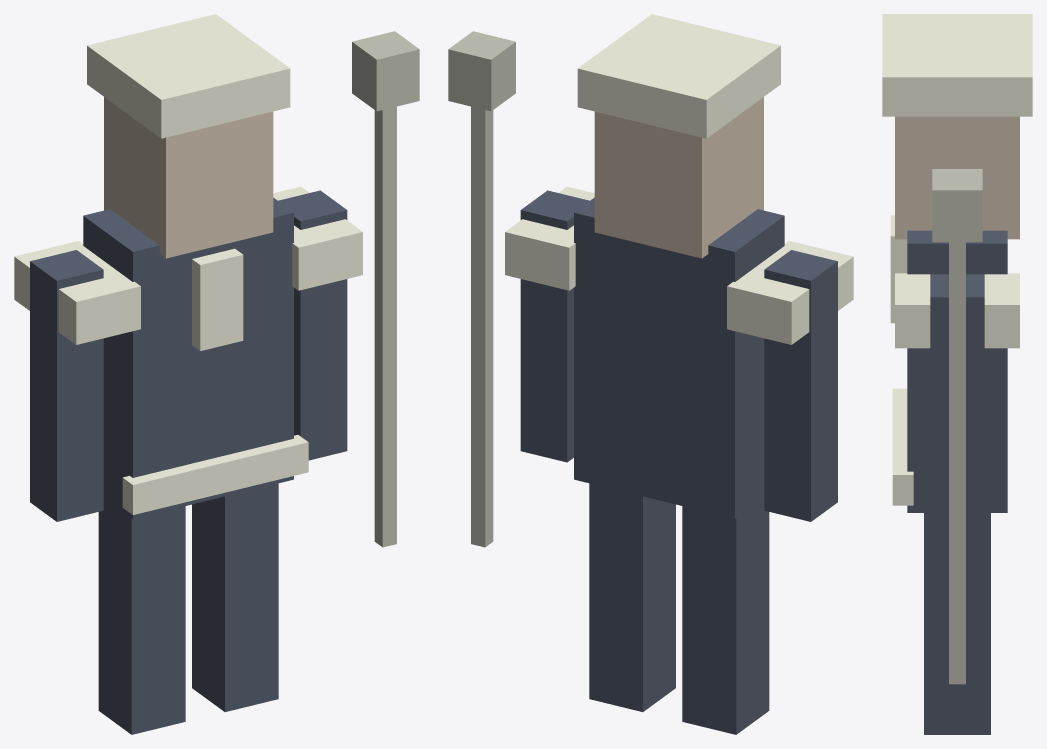
The model's file is 13_luma_voxmere_marshal_from_shuttle.glb.
3 views of the same model, side by side, from view 1: azimuth 30°, elevation 25°; view 2: azimuth 150°, elevation 25°; view 3: azimuth 270°, elevation 25° (orthographic).
Visible parts, largest first — view 1: Luma Voxmere, Marshal from Shuttle; view 2: Luma Voxmere, Marshal from Shuttle; view 3: Luma Voxmere, Marshal from Shuttle.
Boxes of the visible parts, box(x1,y1,x2,y2) form: Luma Voxmere, Marshal from Shuttle: box(14, 14, 419, 734); Luma Voxmere, Marshal from Shuttle: box(448, 14, 853, 734); Luma Voxmere, Marshal from Shuttle: box(882, 14, 1032, 734).
Bounding box in the file's own units: 0.9752 × 1.66 × 0.3459.
